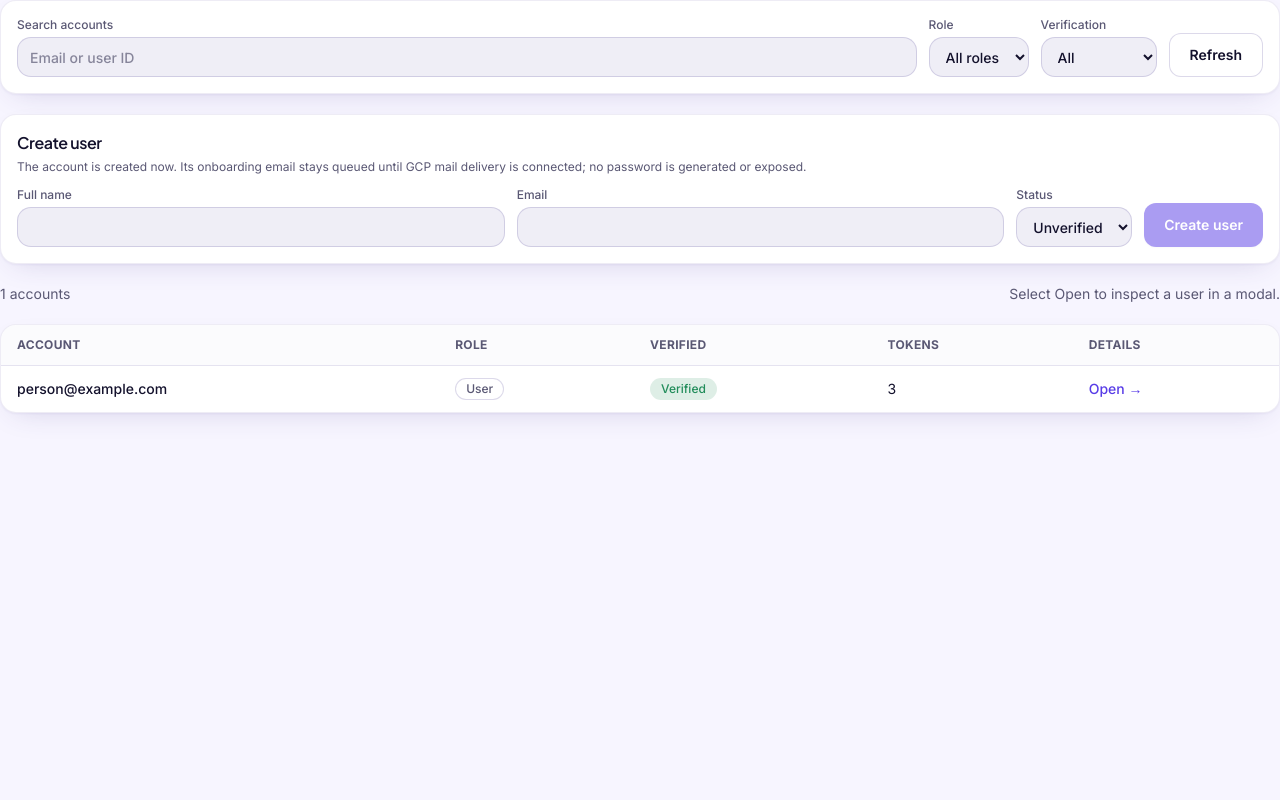
admin users page › opens details in a dialog with overview, activity, and email tabs
The image size is (1280, 800).
Step 1. Click the link "Open →" → (1116, 388), box [1089,380,1142,397]
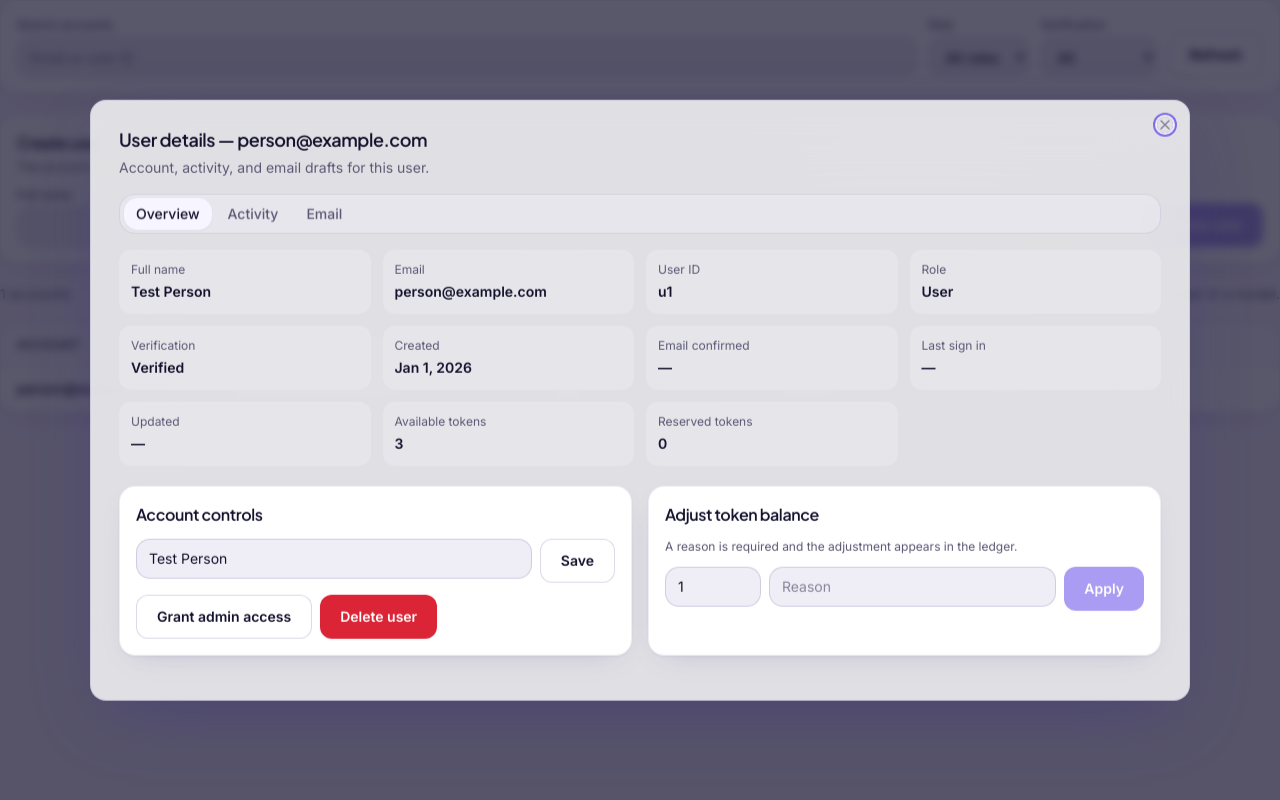
expect the dialog "User details" is shown: met
expect the text "Test Person" is shown: met, box [131,282,211,299]
Step 2. Click the tab "Activity" → (253, 213), box [216,197,290,229]
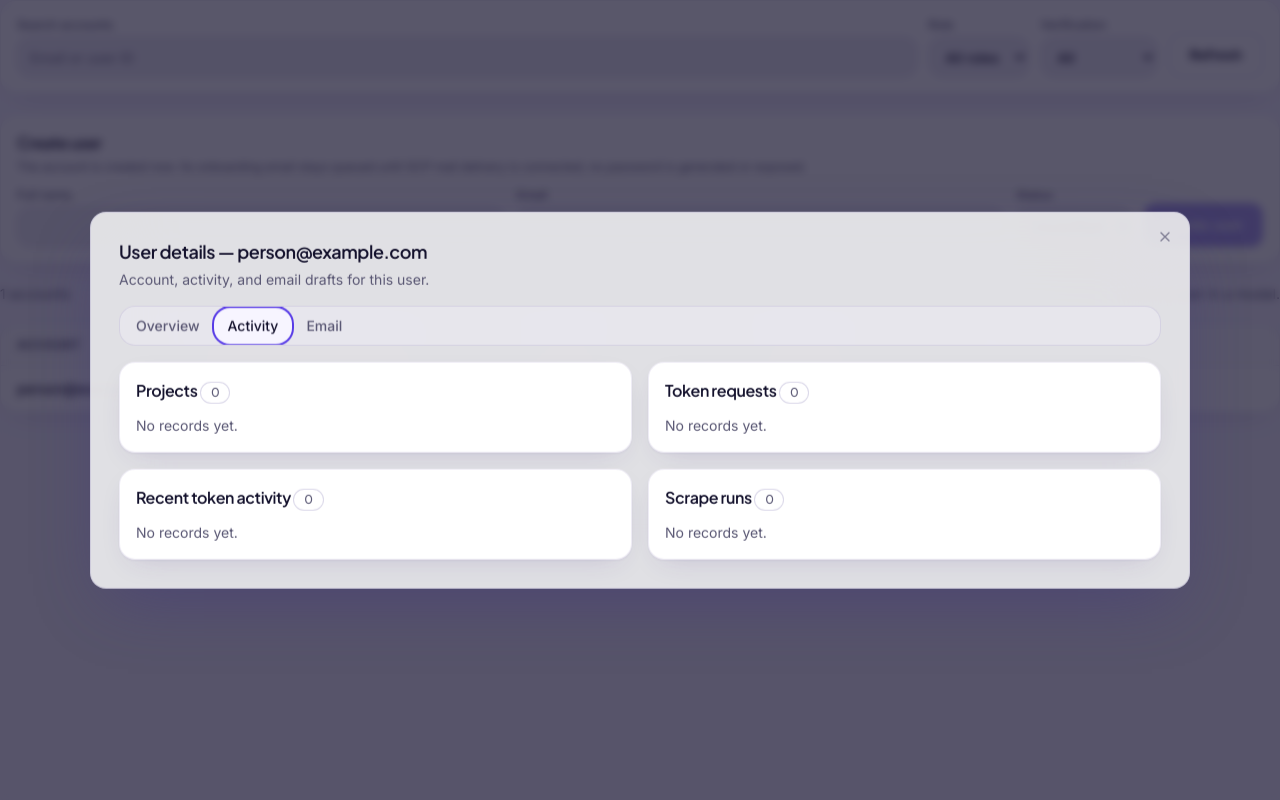
expect the heading "Projects 0" is shown: met, box [136,379,230,403]
Step 3. Click the tab "Email" → (324, 325), box [294,309,354,341]
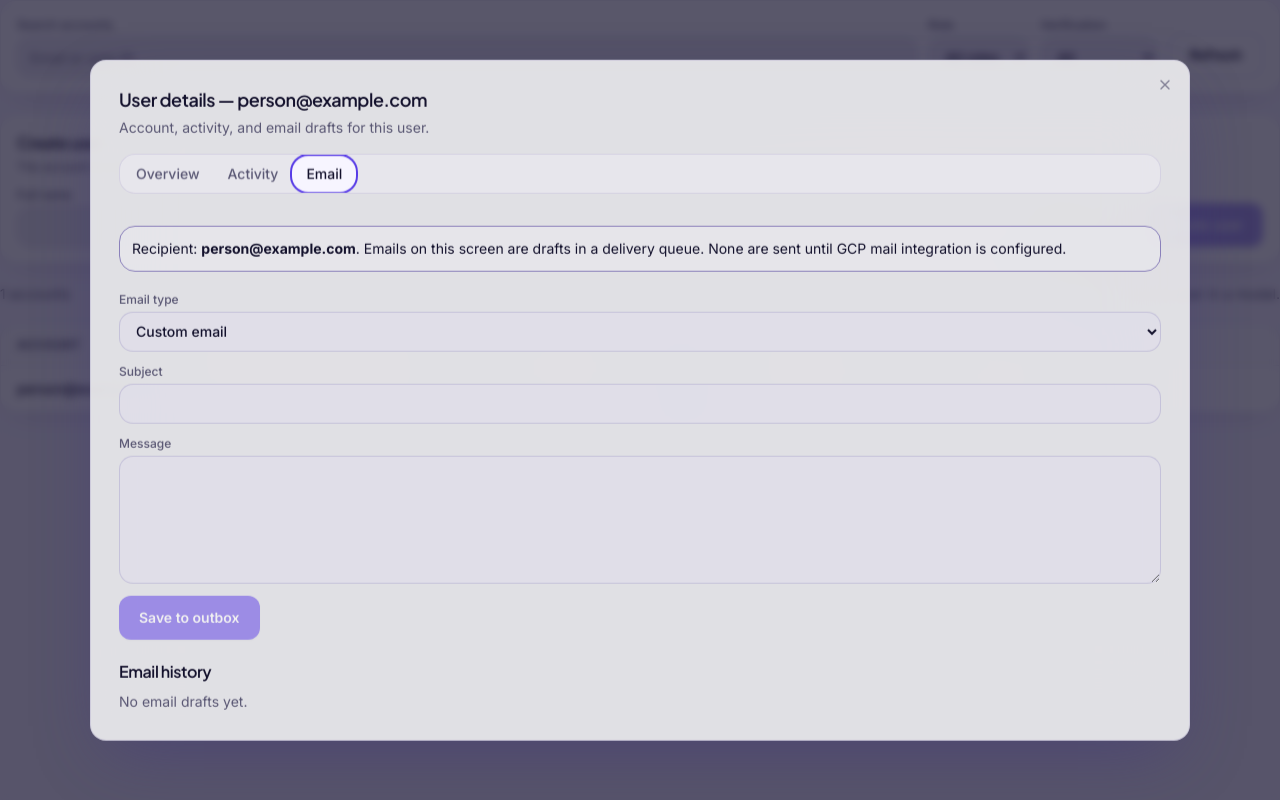
expect the text "none are sent until GCP" is shown: met, box [356,239,1066,256]
expect the button "Save to outbox" is disabled: met, box [119,595,260,639]
